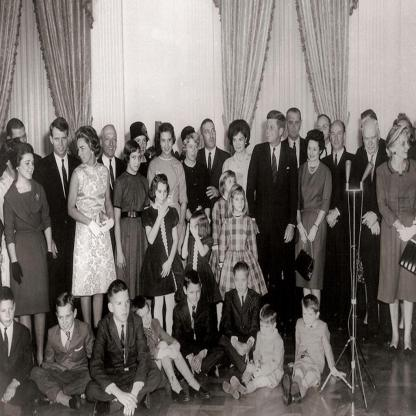face: (114, 297, 131, 322), (58, 308, 75, 332), (20, 156, 35, 180), (53, 131, 68, 155), (1, 302, 15, 327), (79, 140, 93, 164), (104, 133, 118, 156), (365, 131, 379, 153), (396, 139, 410, 159), (204, 127, 217, 148), (288, 117, 301, 138), (331, 128, 344, 149), (14, 132, 28, 151), (188, 286, 202, 305), (235, 274, 248, 294), (130, 151, 142, 172), (161, 135, 173, 156), (139, 310, 152, 329), (318, 122, 331, 141), (187, 141, 199, 161), (267, 122, 279, 142), (157, 184, 168, 205), (136, 137, 148, 156), (234, 134, 246, 153), (309, 143, 321, 162), (304, 310, 317, 327), (261, 322, 274, 337), (234, 195, 245, 212), (225, 177, 236, 192)
